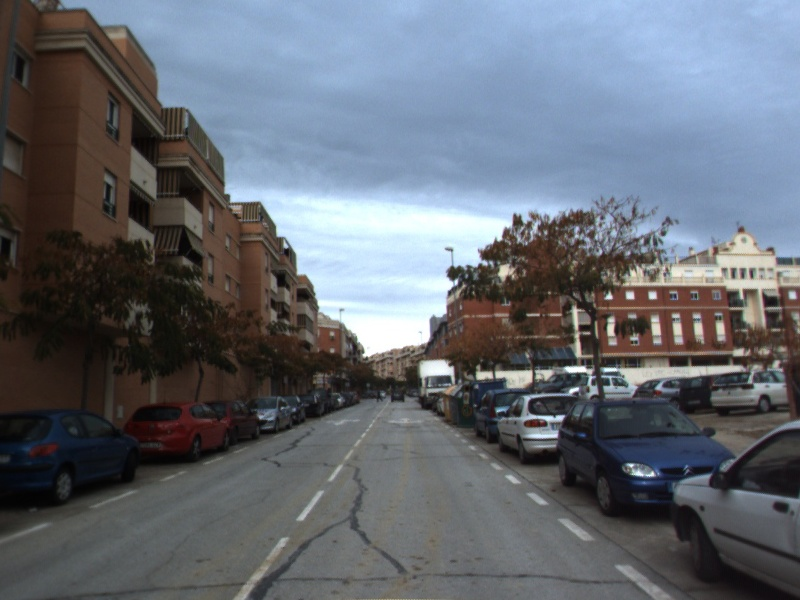STRAIGHT_LEFT_RIGHT: (385, 415, 426, 426)
